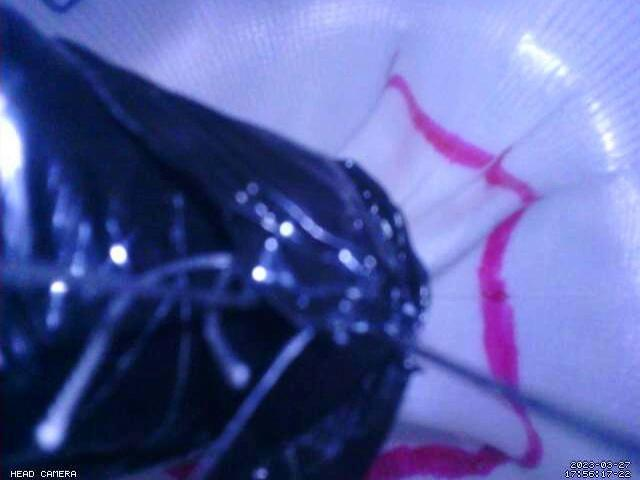red-circle: (370, 74, 545, 478)
